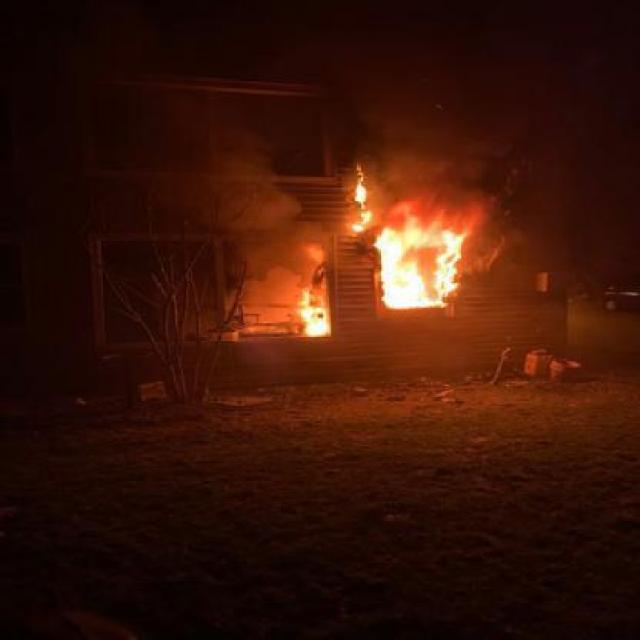Fire: (380, 222, 462, 312), (350, 161, 373, 234), (298, 288, 330, 336)
